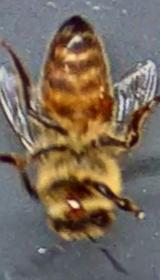varroa_mite: (92, 88, 122, 122)
